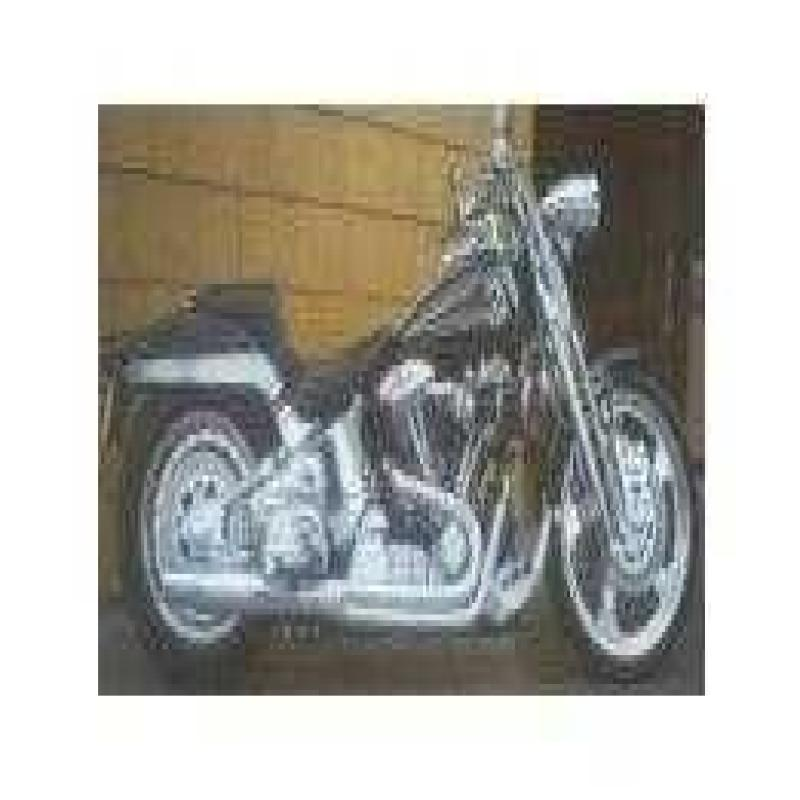bike: (101, 104, 706, 686)
